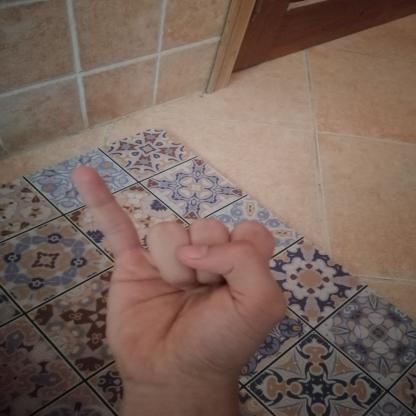MEEM: (48, 149, 304, 406)
